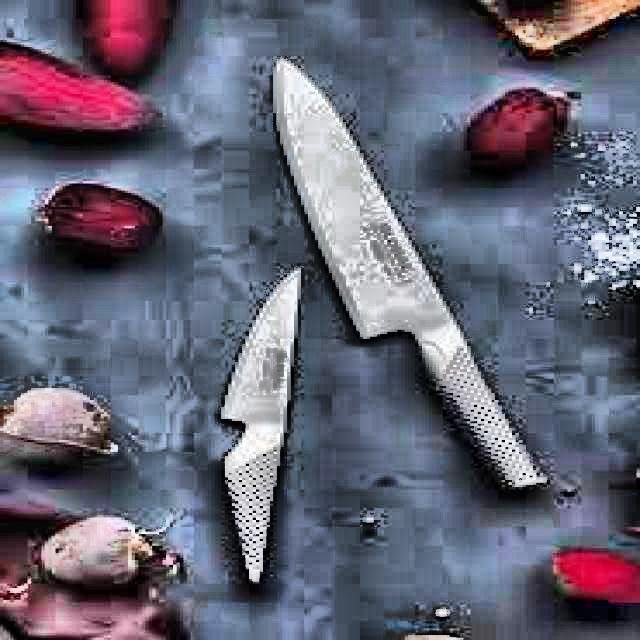knife: (272, 50, 560, 493), (218, 265, 306, 594)
